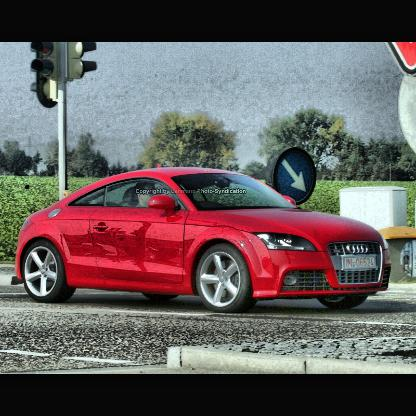Audi TT Hatchback 2011: (14, 167, 391, 314)
